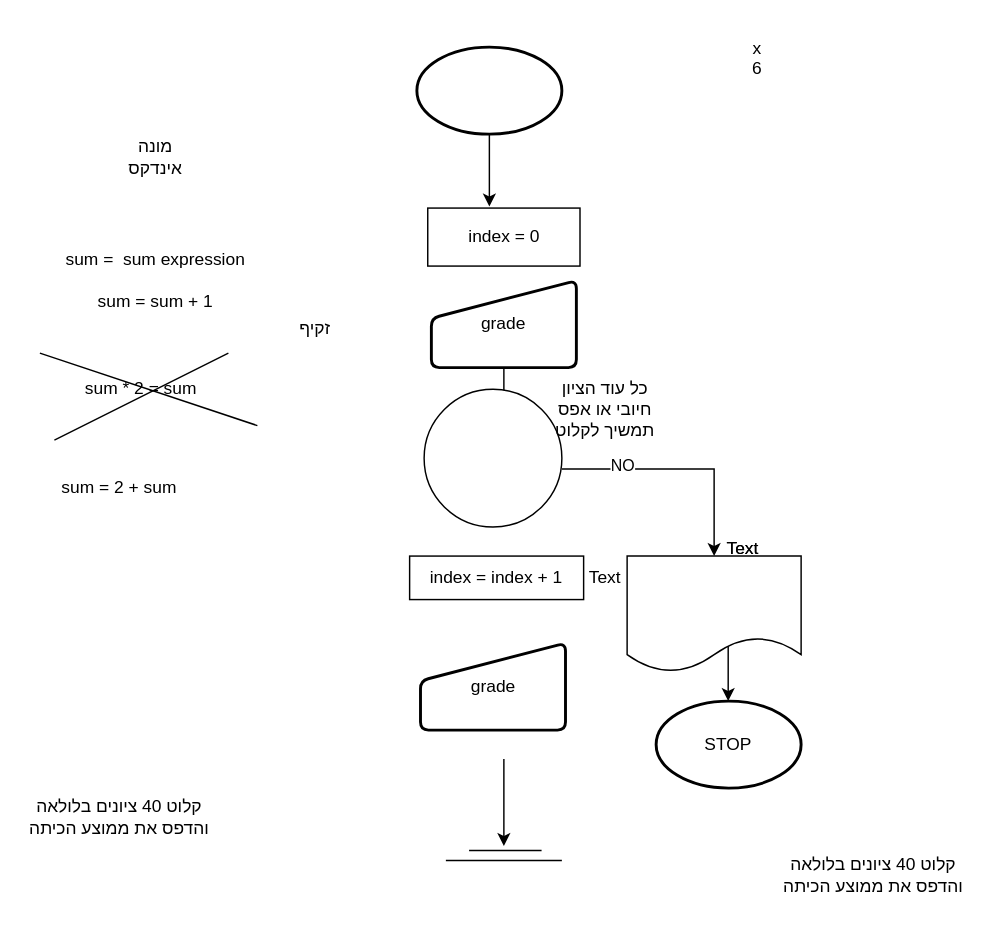
Some shapes in this 992 by 943 pixel diagram are drawn without their labels. Here are the shapes that lost their labels. From the top down, the centre of each, then its label:
pixel 489 90: START
pixel 492 457: index < 3
pixel 713 613: "bye bye"
